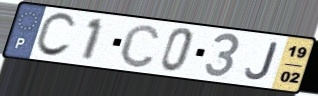0: (160, 27, 198, 75)
1: (80, 17, 106, 62)
3: (203, 31, 243, 81)
C: (32, 11, 78, 59), (117, 23, 162, 70)
J: (243, 41, 279, 81)
